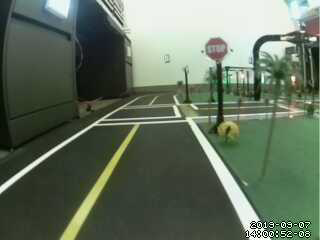Stop_Sign: (203, 36, 230, 64)
